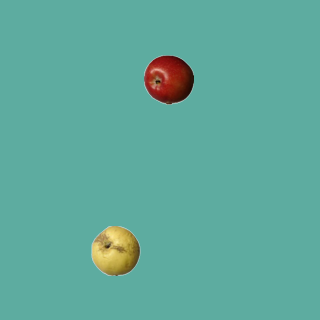Apple Braeburn: (143, 54, 193, 104)
Apple Golden 1: (90, 225, 140, 275)
